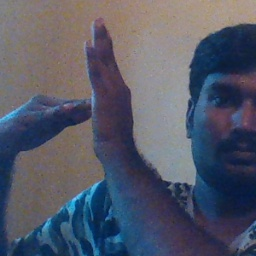Z: (15, 17, 137, 171)
